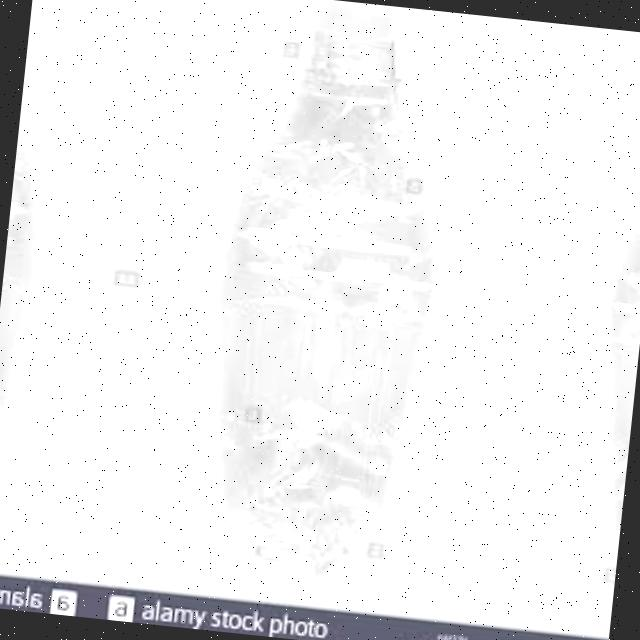Plastic: (172, 8, 464, 590), (0, 0, 78, 550), (574, 50, 640, 612)
